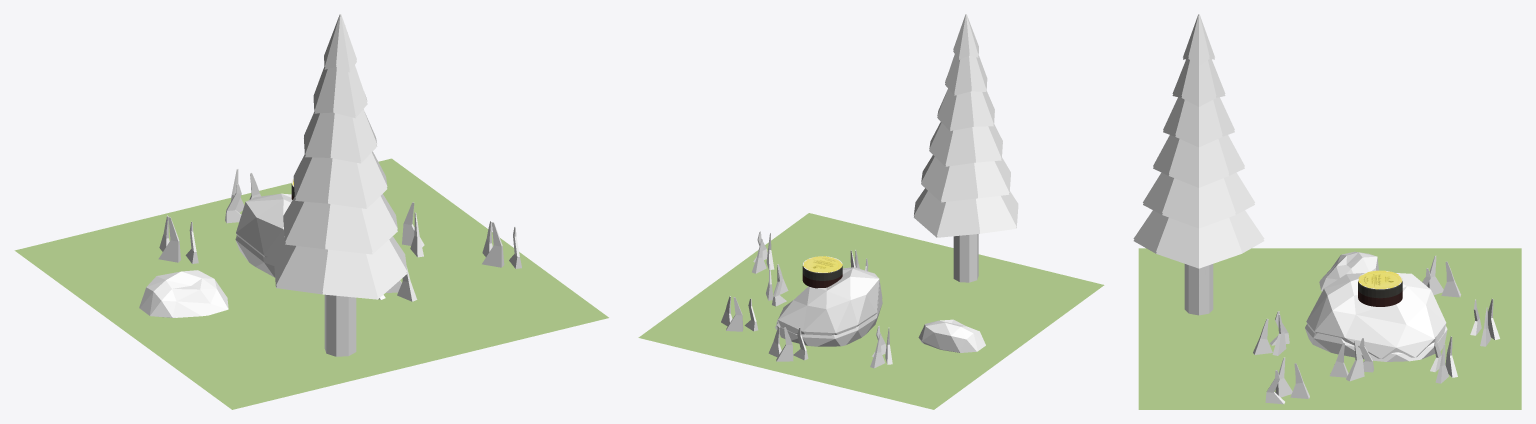
The model's file is polyForest.glb.
3 views of the same model, side by side, from view 1: azimuth 30°, elevation 25°; view 2: azimuth 150°, elevation 25°; view 3: azimuth 270°, elevation 25° (orthographic). The views are drawn at different scales.
Visible parts, largest first — view 1: Plane.003; view 2: Plane.003; view 3: Plane.003.
Boxes of the visible parts, <box> form: Plane.003: <box>14,14,608,409</box>; Plane.003: <box>638,14,1104,409</box>; Plane.003: <box>1133,14,1521,409</box>.
Bounding box in the file's own units: 28.61 × 25.17 × 29.01.
Materials: 8 (1 with a texture image).
